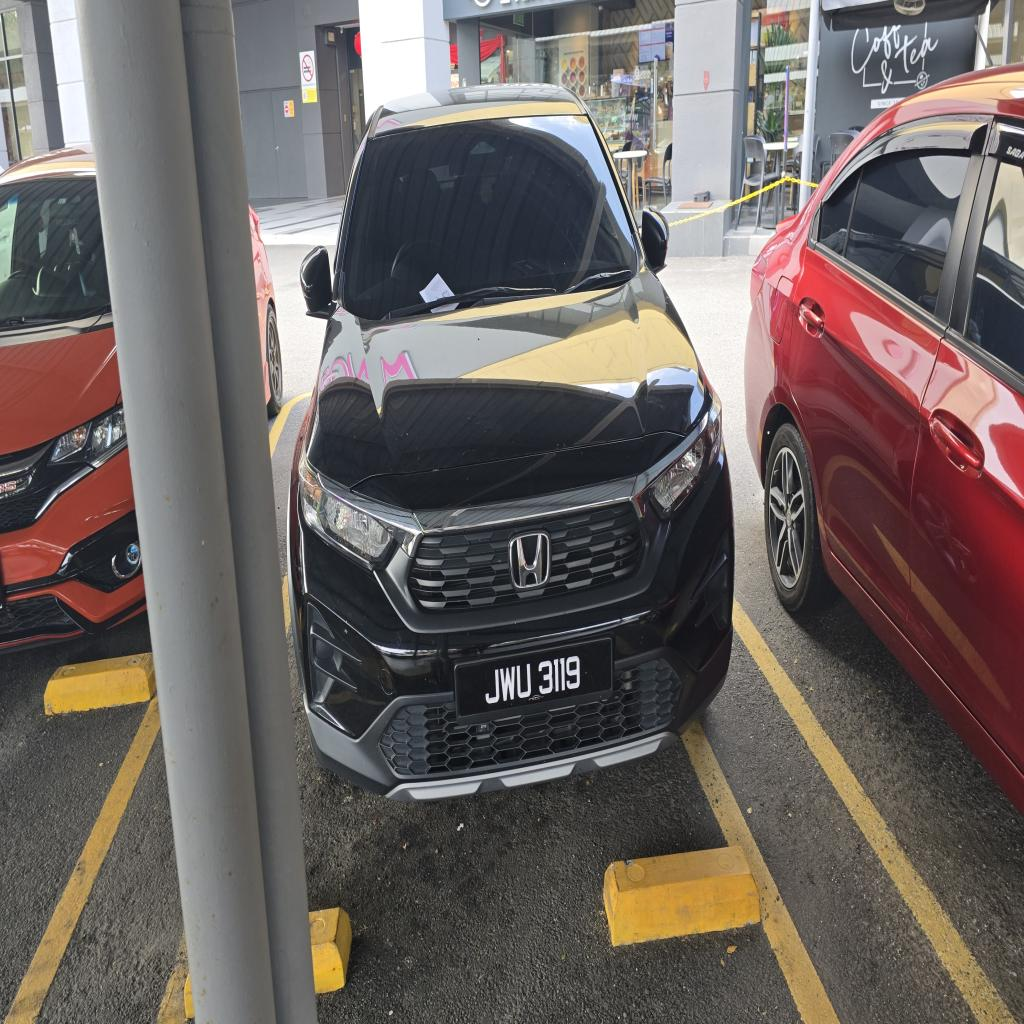car: (288, 87, 733, 800)
car plate: (455, 638, 612, 721)
